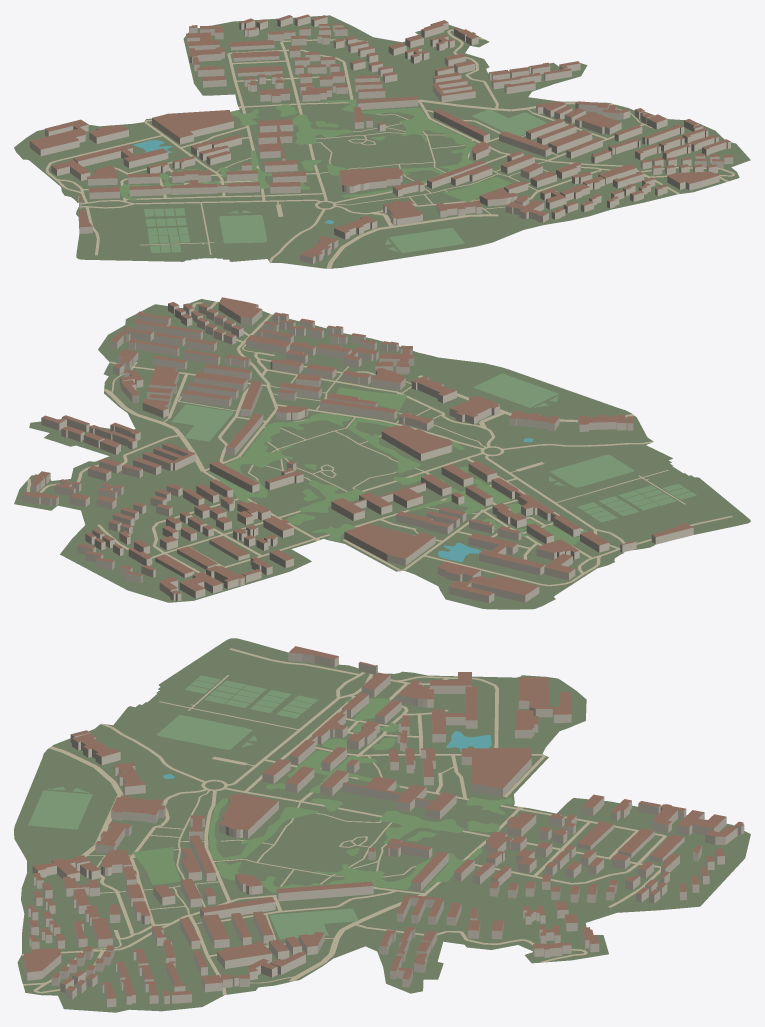
3 renders of one model, top to bottom at view 1: azimuth 30°, elevation 25°; view 2: azimuth 150°, elevation 25°; view 3: azimuth 270°, elevation 25°, orthographic. The views are drawn at different scales.
Parts seen in each view (by area): view 1: campus-ground, buildings, roofs, environment (×3); view 2: campus-ground, buildings, roofs, environment (×3); view 3: campus-ground, roofs, buildings, environment (×4).
Boxes of the visible parts, x1=… form: campus-ground: x1=14, y1=15, x2=750, y2=268; buildings: x1=29, y1=16, x2=733, y2=263; roofs: x1=30, y1=14, x2=732, y2=257; environment (×3): x1=45, y1=29, x2=734, y2=268; campus-ground: x1=14, y1=299, x2=750, y2=609; buildings: x1=22, y1=303, x2=693, y2=603; roofs: x1=22, y1=297, x2=692, y2=595; environment (×3): x1=26, y1=301, x2=732, y2=586; campus-ground: x1=14, y1=638, x2=750, y2=1012; roofs: x1=24, y1=646, x2=743, y2=998; buildings: x1=24, y1=652, x2=744, y2=1007; environment (×4): x1=21, y1=648, x2=666, y2=994.
Size of the model in its own units: 1163 by 12.2 by 967.
